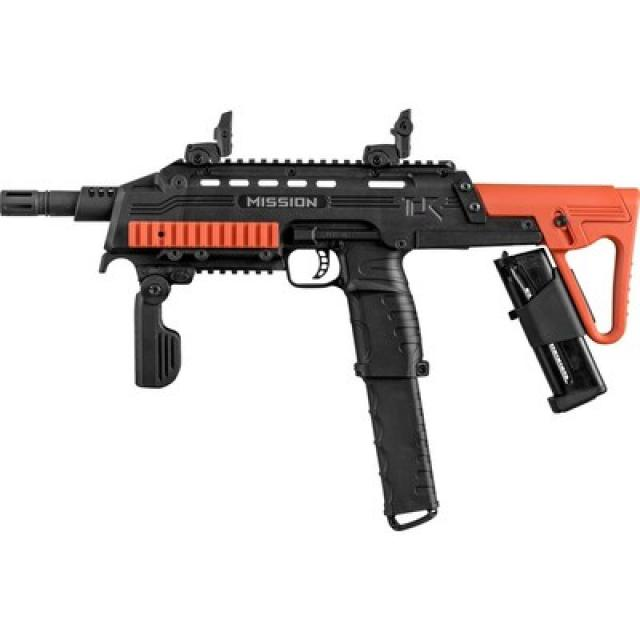gun: (3, 105, 640, 538)
